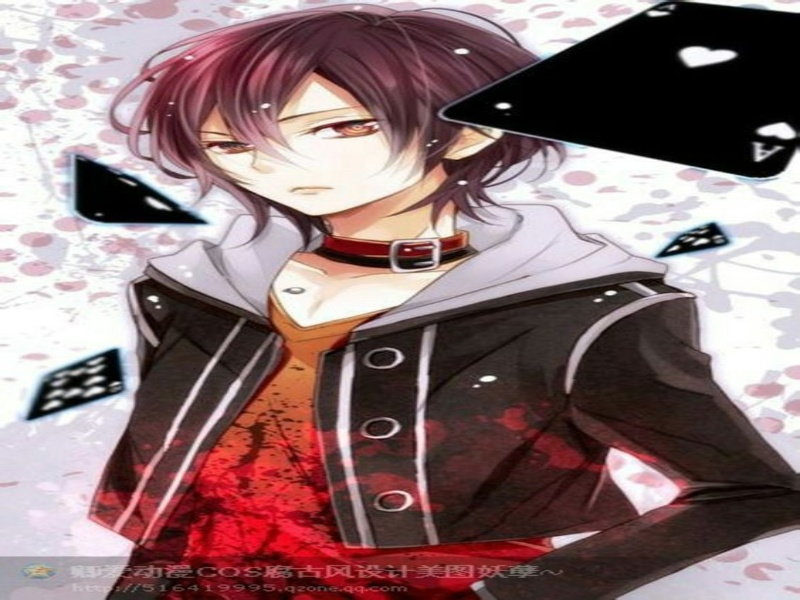person: (174, 57, 445, 231)
